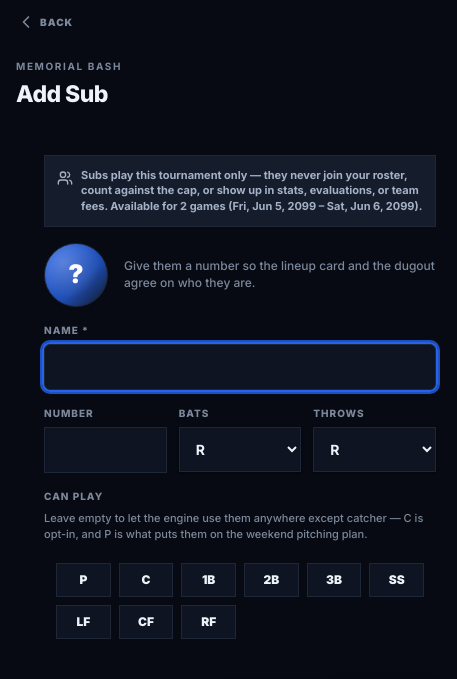
Test case: AddTournamentSubPage › warns when the jersey number is already in the dugout
The width and height of the screenshot is (457, 679).
Type "42" into the field labelled "Number" at (105, 450), box [44,427,167,473]
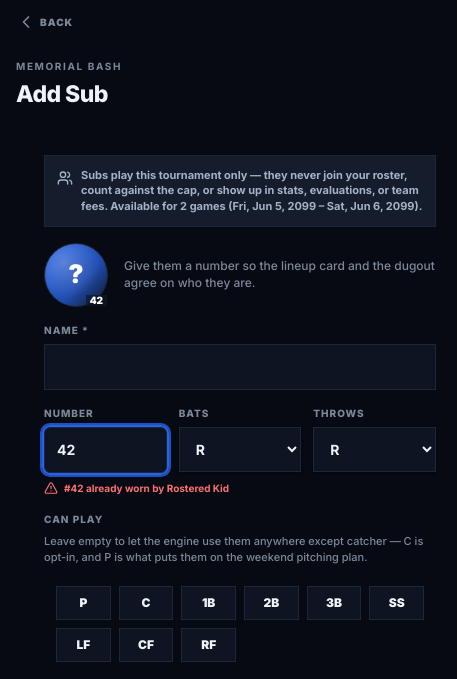
Check: the text "#42 already worn by Rostered Kid" is shown, box [44,481,229,495]
